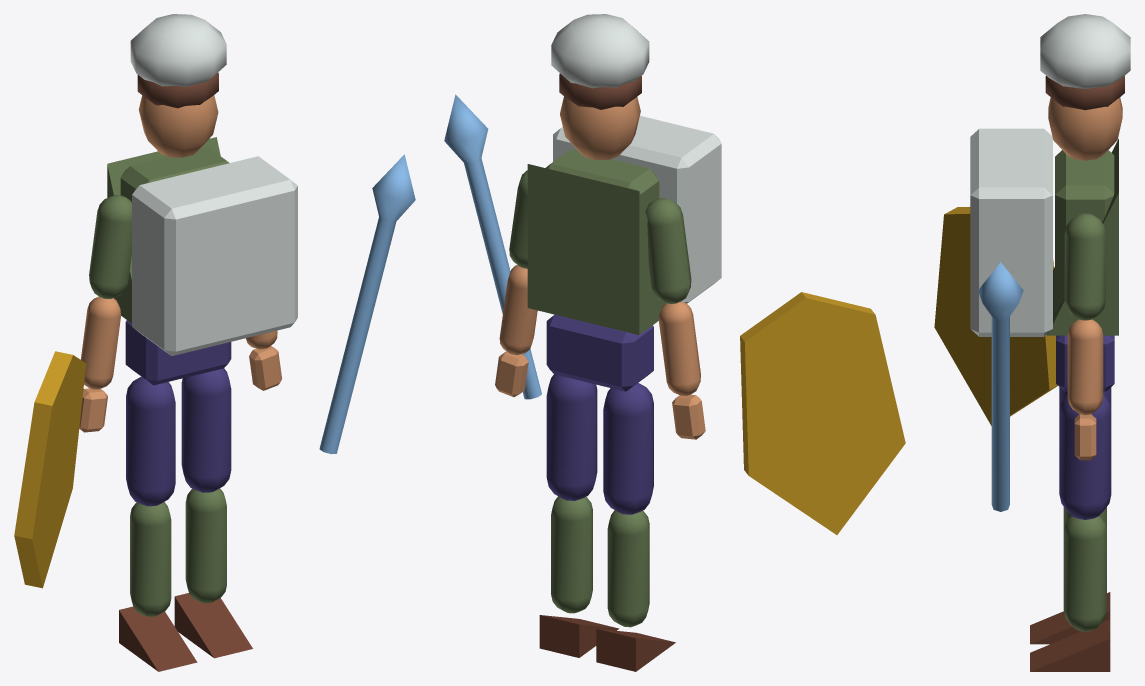
The model's file is adventurer.rustic.glb.
3 views of the same model, side by side, from view 1: azimuth 30°, elevation 25°; view 2: azimuth 150°, elevation 25°; view 3: azimuth 270°, elevation 25° (orthographic).
Visible parts, largest first — view 1: accessory.body, accessory.off-hand, accessory.main-hand, thigh.left, thigh.right, accessory.head, shin.right, shin.left, upper-arm.left, head, pelvis, foot.right (+7 smaller); view 2: accessory.off-hand, tunic, accessory.body, pelvis, thigh.left, thigh.right, accessory.head, accessory.main-hand, shin.left, shin.right, upper-arm.left, head (+9 smaller); view 3: accessory.body, accessory.off-hand, accessory.head, accessory.main-hand, thigh.right, shin.right, torso, upper-arm.right, head, forearm.right, tunic, foot.right (+4 smaller).
Boxes of the visible parts, x1=… form: accessory.body: x1=132, y1=156, x2=297, y2=355; accessory.off-hand: x1=14, y1=351, x2=86, y2=588; accessory.main-hand: x1=319, y1=154, x2=415, y2=454; thigh.left: x1=126, y1=376, x2=175, y2=506; thigh.right: x1=181, y1=368, x2=231, y2=492; accessory.head: x1=130, y1=14, x2=226, y2=86; shin.right: x1=185, y1=488, x2=226, y2=603; shin.left: x1=130, y1=502, x2=171, y2=616; upper-arm.left: x1=89, y1=195, x2=131, y2=298; head: x1=138, y1=95, x2=218, y2=157; pelvis: x1=125, y1=320, x2=231, y2=385; foot.right: x1=174, y1=593, x2=252, y2=658; accessory.off-hand: x1=740, y1=292, x2=905, y2=534; tunic: x1=527, y1=164, x2=666, y2=334; accessory.body: x1=553, y1=115, x2=721, y2=303; pelvis: x1=546, y1=314, x2=653, y2=391; thigh.left: x1=603, y1=383, x2=653, y2=514; thigh.right: x1=546, y1=374, x2=597, y2=500; accessory.head: x1=551, y1=14, x2=649, y2=88; accessory.main-hand: x1=444, y1=94, x2=541, y2=399; shin.left: x1=607, y1=510, x2=649, y2=627; shin.right: x1=551, y1=496, x2=592, y2=613; upper-arm.left: x1=645, y1=198, x2=691, y2=303; head: x1=560, y1=96, x2=640, y2=160; accessory.body: x1=970, y1=128, x2=1052, y2=336; accessory.off-hand: x1=934, y1=206, x2=1057, y2=425; accessory.head: x1=1040, y1=14, x2=1130, y2=88; accessory.main-hand: x1=978, y1=262, x2=1023, y2=511; thigh.right: x1=1059, y1=395, x2=1111, y2=519; shin.right: x1=1063, y1=516, x2=1106, y2=631; torso: x1=1055, y1=150, x2=1114, y2=309; upper-arm.right: x1=1064, y1=213, x2=1105, y2=320; head: x1=1048, y1=97, x2=1122, y2=160; forearm.right: x1=1067, y1=319, x2=1103, y2=415; tunic: x1=1047, y1=138, x2=1118, y2=335; foot.right: x1=1030, y1=619, x2=1110, y2=671.
Size of the model in its own units: 2.29 by 3.2 by 0.9041.
